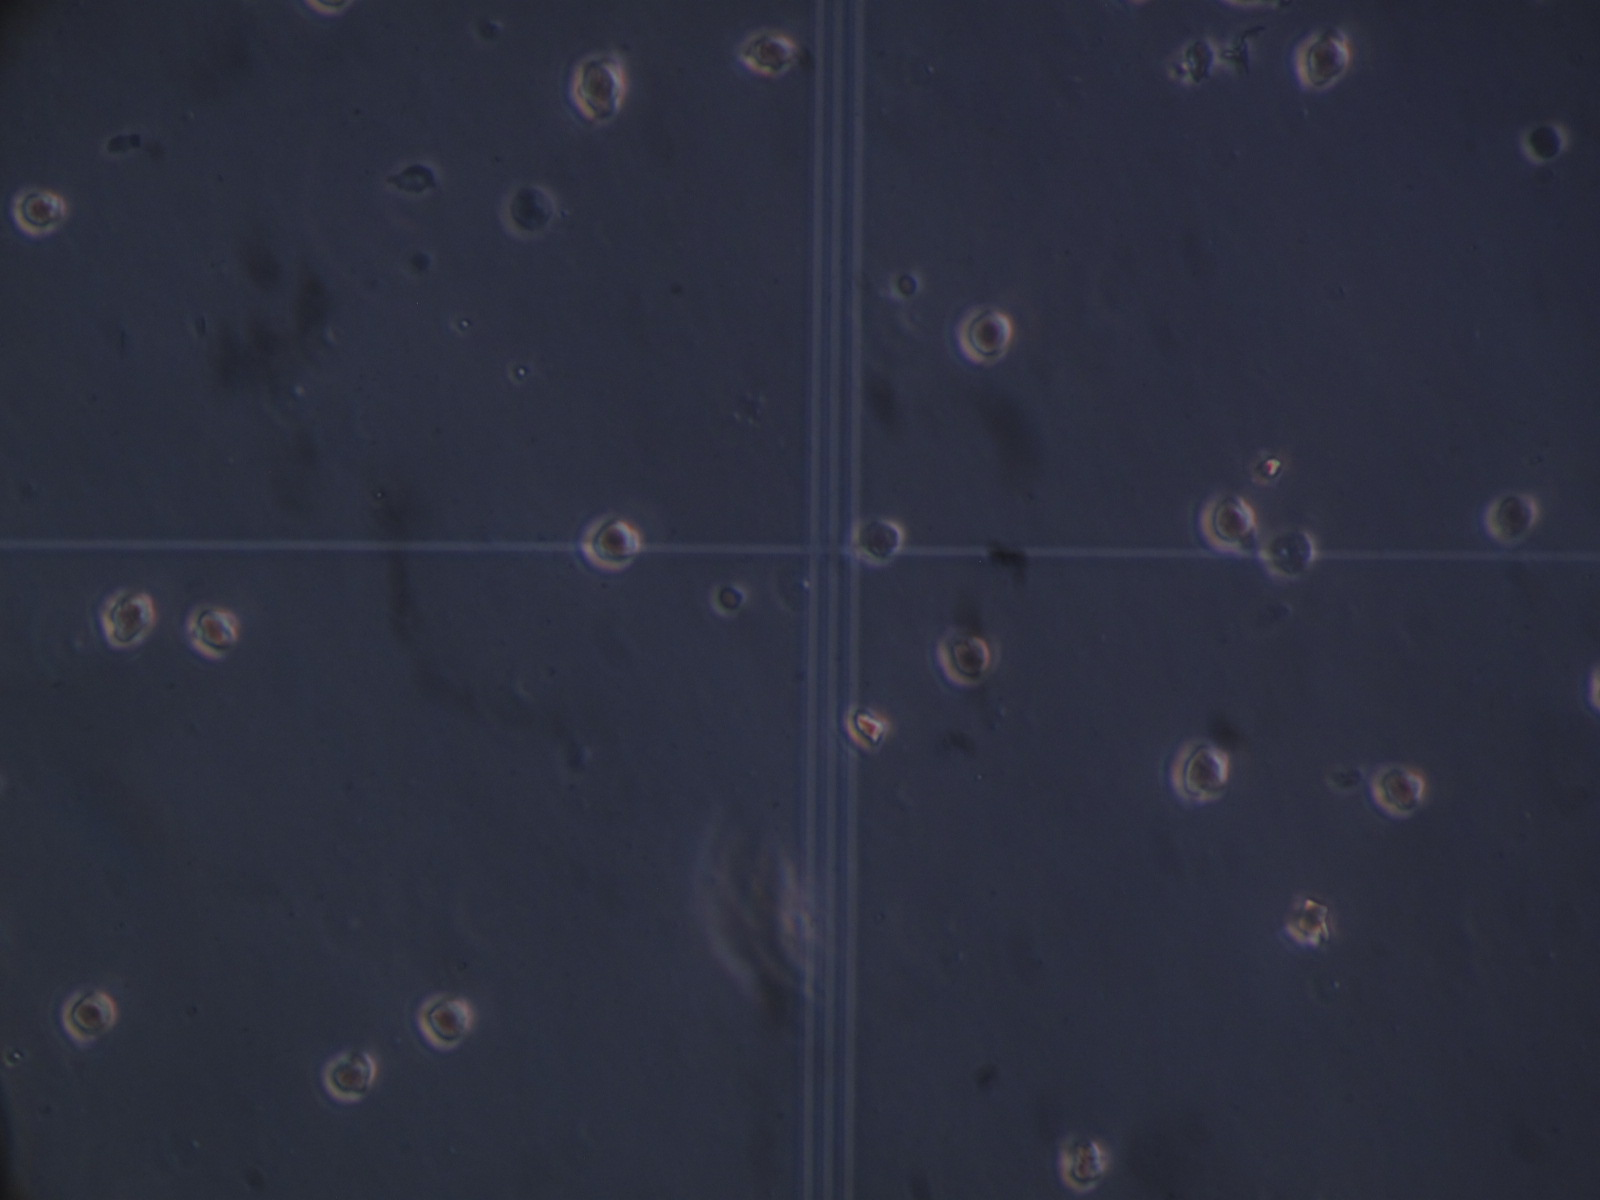hemo: (1170, 735, 1232, 802), (571, 53, 624, 122), (581, 514, 644, 571), (1368, 760, 1426, 821), (1199, 494, 1254, 555), (417, 991, 471, 1050), (957, 306, 1012, 366), (939, 626, 991, 687), (103, 587, 155, 649), (62, 989, 117, 1046), (503, 182, 557, 239), (1295, 32, 1349, 89), (1060, 1129, 1109, 1192), (323, 1047, 375, 1103), (1485, 492, 1540, 545), (186, 603, 237, 659), (1264, 528, 1317, 580), (852, 514, 906, 565), (844, 700, 893, 754), (13, 187, 66, 236), (742, 28, 797, 74), (1519, 120, 1569, 164), (1180, 37, 1217, 88), (711, 581, 750, 618)
